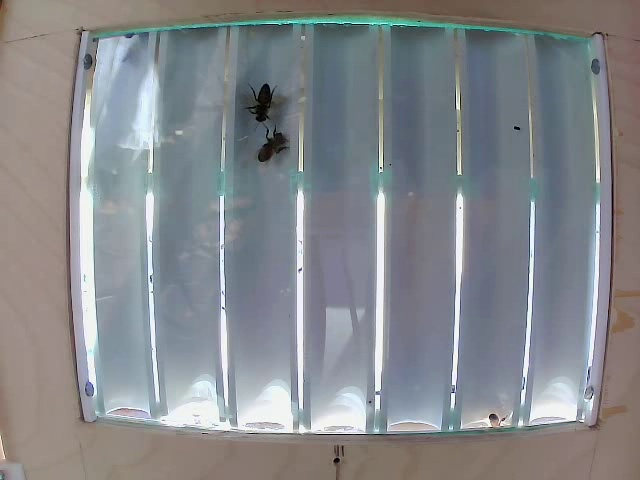bee: (252, 80, 289, 138), (253, 123, 295, 168)
